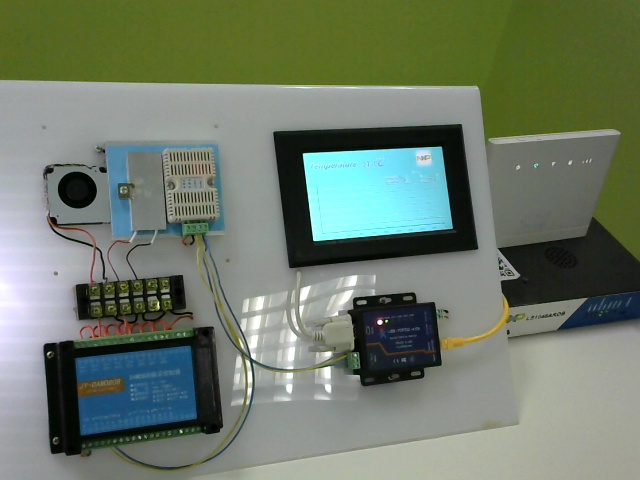fan: (39, 159, 110, 231)
heater: (125, 149, 169, 240)
modbus bridge: (344, 289, 456, 400)
relay: (38, 323, 233, 458)
termperature: (164, 143, 226, 238)
